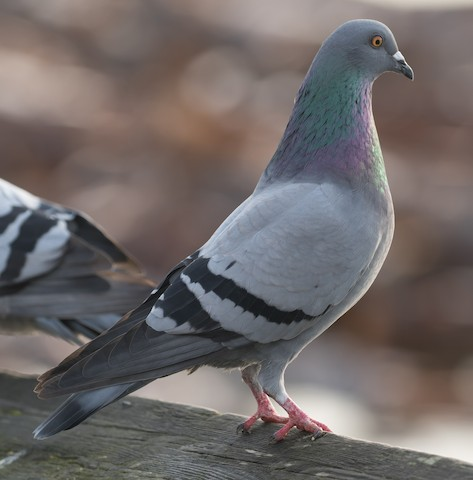pigeon: (31, 16, 425, 459), (4, 170, 178, 383)
